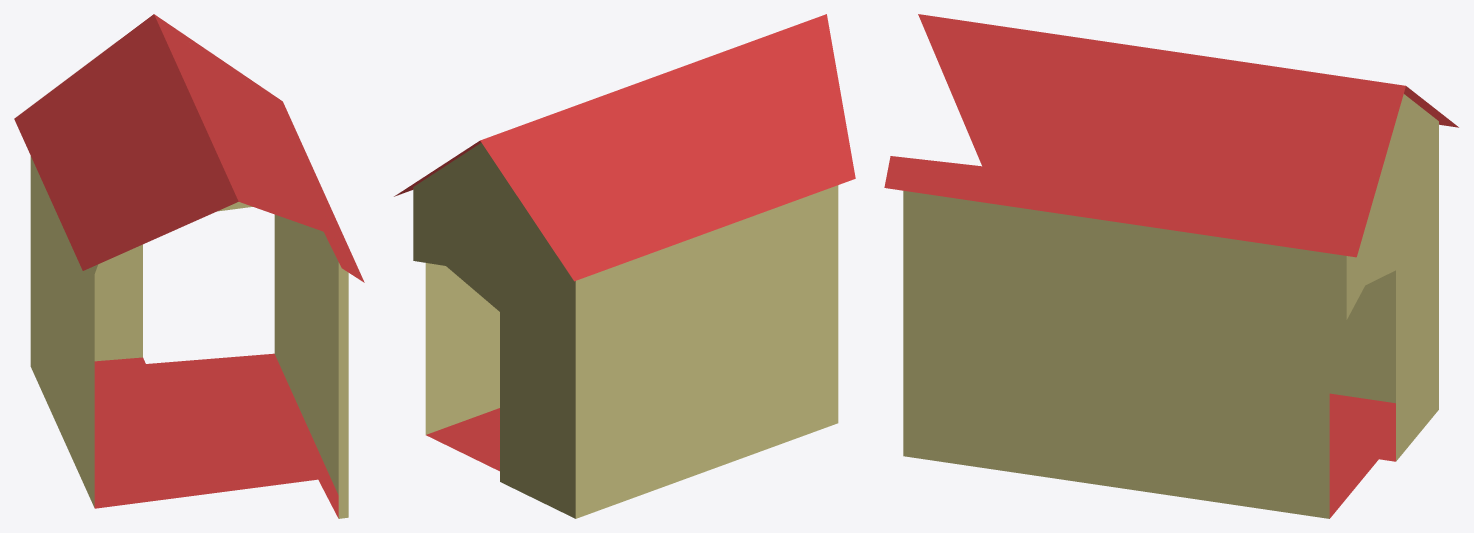
3 renders of one model, left to right at view 1: azimuth 30°, elevation 25°; view 2: azimuth 150°, elevation 25°; view 3: azimuth 270°, elevation 25°, orthographic. The views are drawn at different scales.
Size of the model in its own units: 13.41 by 17.8 by 13.13.
